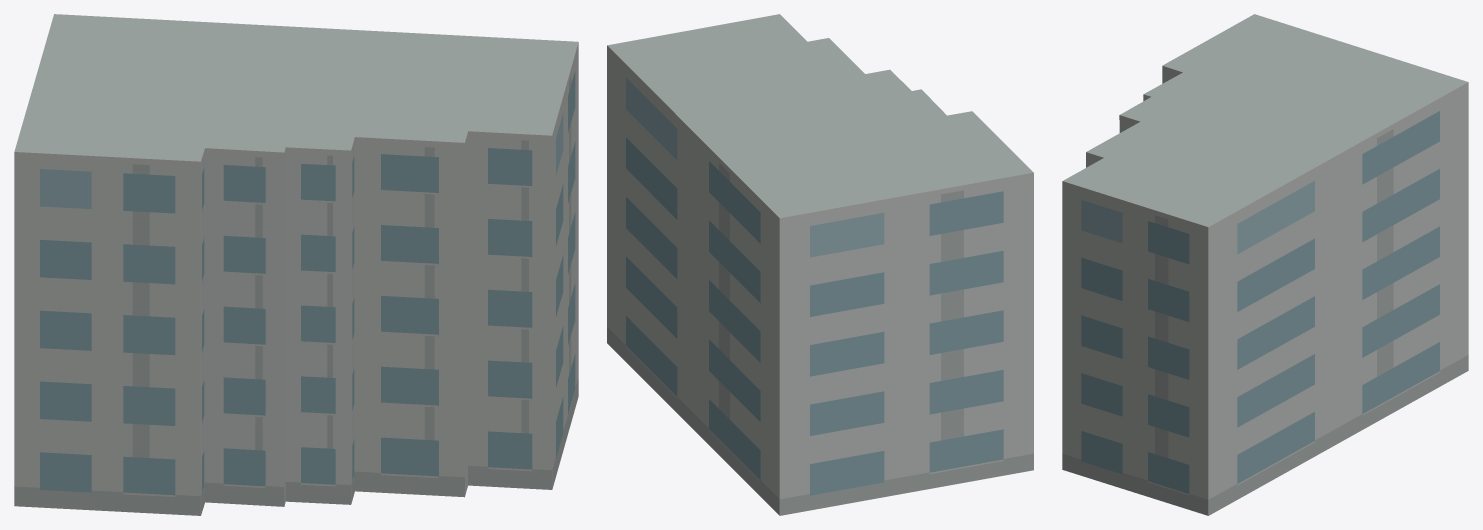
Rendered from survey-upis-32807108.glb.
3 views of the same model, side by side, from view 1: azimuth 30°, elevation 25°; view 2: azimuth 150°, elevation 25°; view 3: azimuth 270°, elevation 25° (orthographic). The views are drawn at different scales.
Parts seen in each view (by area): view 1: survey-upis-32807108.tmp; view 2: survey-upis-32807108.tmp; view 3: survey-upis-32807108.tmp.
Part boxes in pixels (bbox=[...]): survey-upis-32807108.tmp: bbox=[14, 14, 578, 515]; survey-upis-32807108.tmp: bbox=[607, 14, 1033, 515]; survey-upis-32807108.tmp: bbox=[1062, 14, 1468, 515].
Bounding box in the file's own units: 22.18 × 14 × 17.86.
